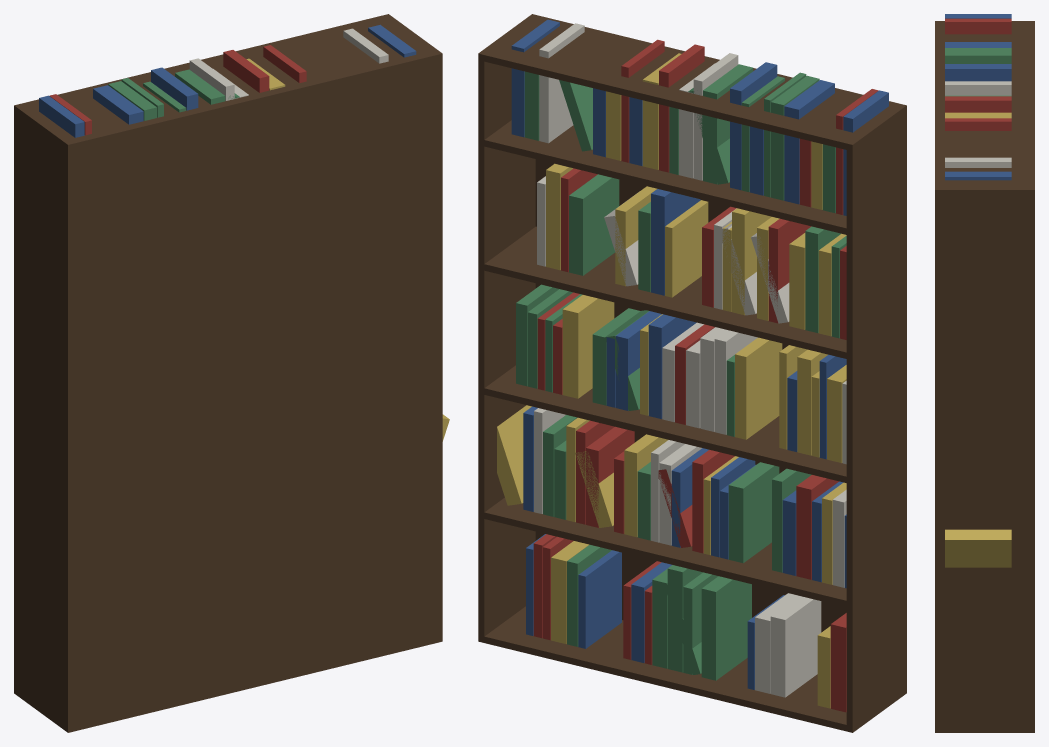
File: bookcase.fbx
The picture shows the model from 3 angles, left to right: view 1: azimuth 30°, elevation 25°; view 2: azimuth 150°, elevation 25°; view 3: azimuth 270°, elevation 25°; orthographic projection. The views are drawn at different scales.
Visible parts, largest first — view 1: bookcase; view 2: bookcase; view 3: bookcase.
Boxes of the visible parts, x1,y1,x2,y2 form: bookcase: (14, 14, 449, 732); bookcase: (478, 14, 906, 732); bookcase: (935, 14, 1034, 732).
Bounding box in the file's own units: 1.24 × 1.84 × 0.3.
